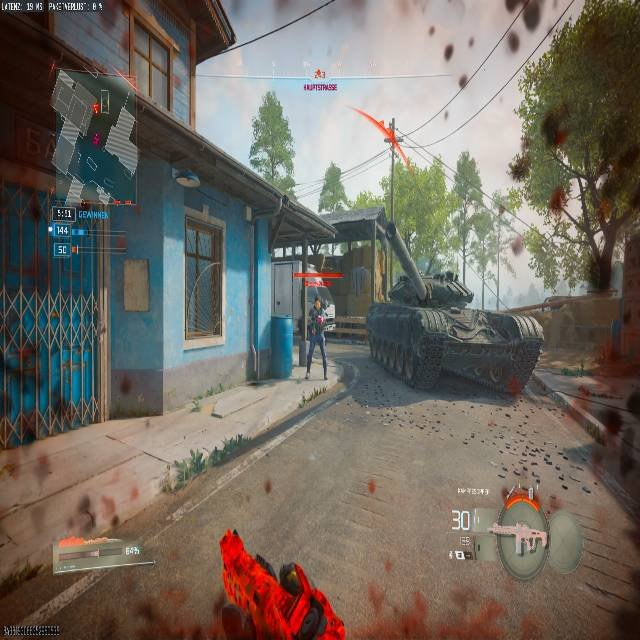head: (313, 289, 328, 308), (313, 295, 321, 305)
player: (307, 294, 331, 366)
